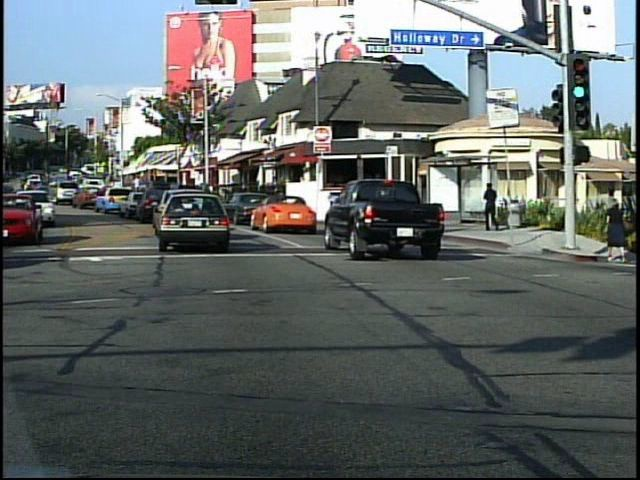person: (603, 192, 632, 265), (479, 180, 502, 236)
